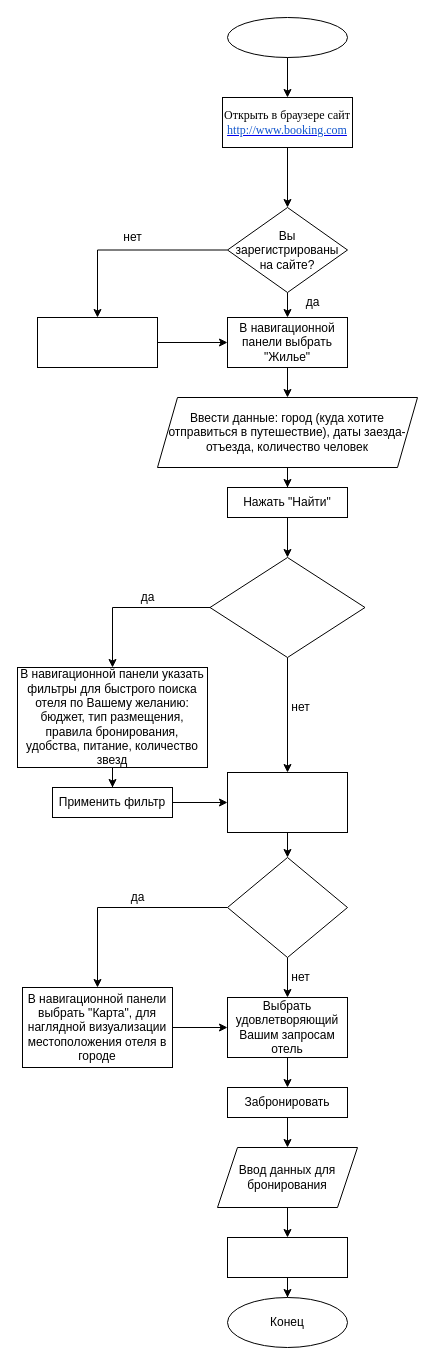
Some shapes in this 435 by 1365 pixel diagram are drawn without their labels. Each missing label, with the centre of its shape:
"Вы хотите отобразить отели на карте?" goes at (287,907).
"Вы хотите сузить результаты поиска?" goes at (287,607).
"Зарегистрироваться на сайте" goes at (97,342).
"Начало" goes at (287,37).
"Оплатить" goes at (287,1257).
"Продолжить поиск отеля в отобразившемся списке" goes at (287,802).
